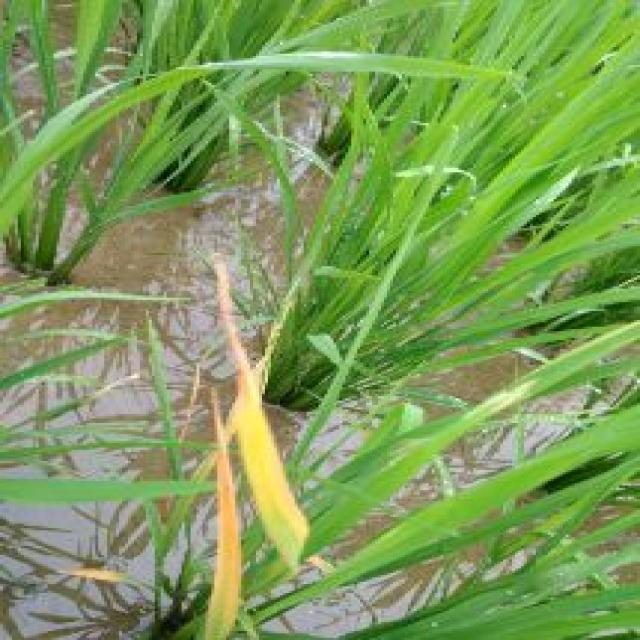Tungro: (185, 297, 320, 639)
